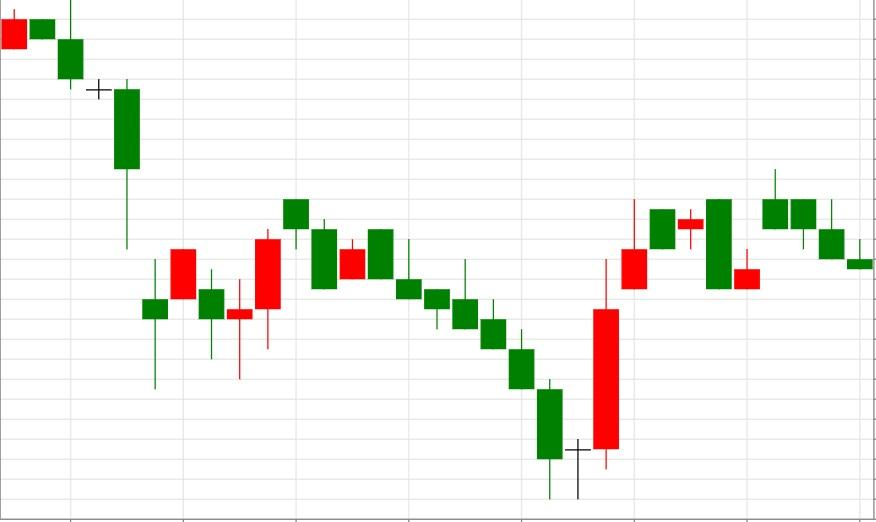morning_star_rise: (367, 228, 620, 499)
